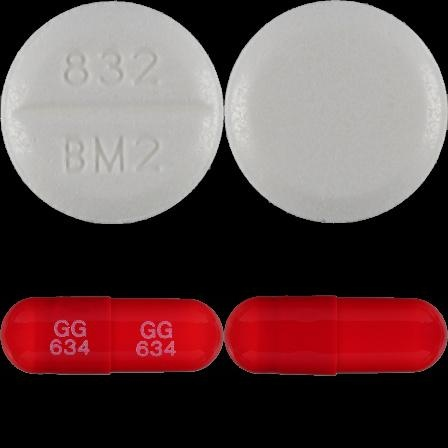0832-1082: (0, 0, 224, 224)
